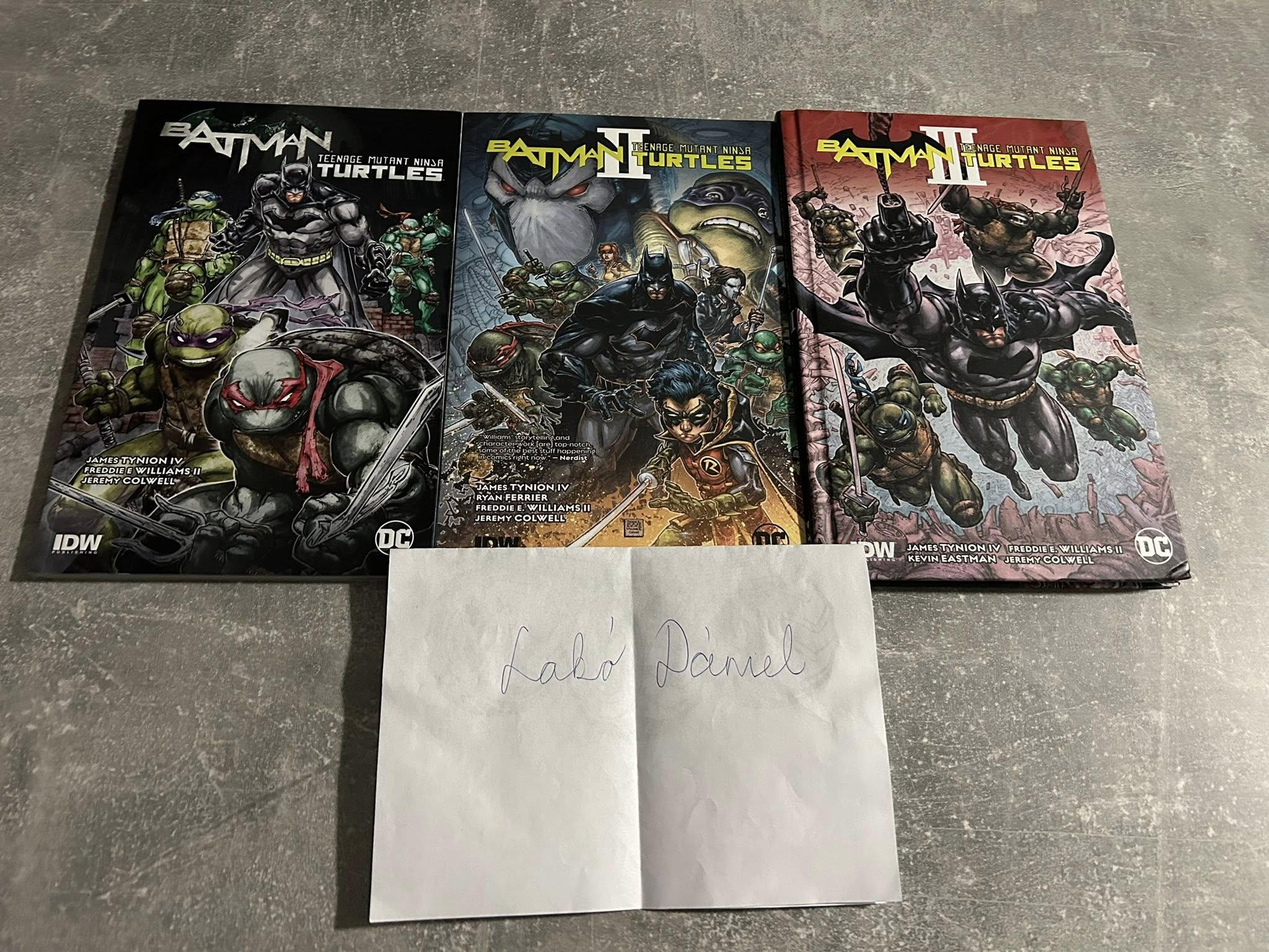comic: (774, 79, 1189, 613), (31, 98, 460, 583), (437, 113, 802, 546)
